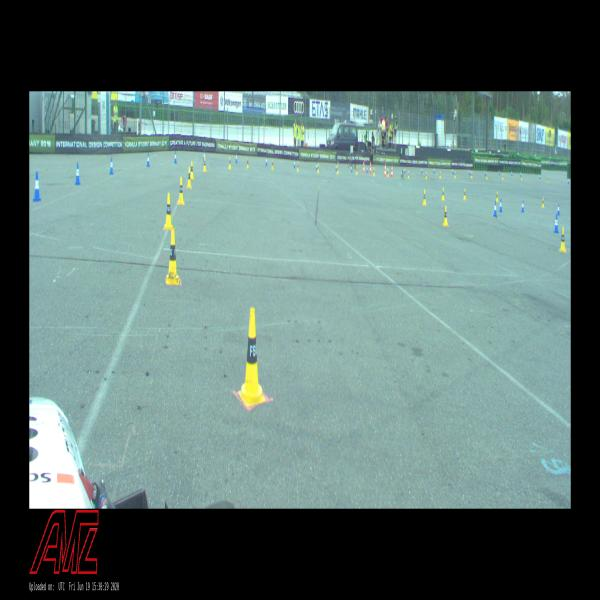blue_cone: (33, 172, 41, 202), (75, 163, 80, 185), (109, 157, 114, 174), (554, 215, 558, 232), (493, 202, 497, 216), (146, 153, 150, 166), (499, 199, 502, 212), (521, 200, 524, 212), (174, 151, 177, 163), (557, 204, 560, 215), (203, 151, 205, 161), (335, 164, 337, 172), (366, 165, 368, 173), (351, 165, 353, 172), (316, 163, 318, 170), (539, 174, 541, 180), (433, 167, 435, 173), (404, 167, 406, 173), (484, 170, 486, 176), (452, 168, 454, 174), (421, 168, 423, 173), (236, 153, 237, 162), (266, 157, 267, 165), (294, 160, 295, 168), (498, 170, 500, 174), (387, 166, 388, 173), (568, 178, 569, 184), (469, 170, 470, 174), (520, 172, 521, 176), (512, 171, 512, 175)
large_orange_cone: (384, 163, 386, 176), (391, 165, 393, 177), (370, 161, 372, 173), (362, 161, 364, 173)
yellow_cone: (239, 308, 265, 406), (166, 228, 179, 284), (164, 193, 173, 230), (178, 178, 184, 204), (560, 227, 566, 252), (187, 167, 192, 188), (444, 206, 448, 225), (191, 161, 194, 179), (203, 158, 207, 171), (423, 190, 426, 205), (463, 189, 466, 200), (246, 158, 249, 168), (229, 157, 231, 169), (442, 188, 444, 200), (496, 192, 498, 202), (542, 198, 544, 208), (297, 162, 299, 172), (272, 160, 274, 170), (318, 164, 320, 173), (373, 168, 375, 176), (425, 172, 427, 179), (387, 169, 389, 176), (454, 172, 456, 178), (439, 172, 441, 178), (486, 173, 488, 179), (547, 177, 549, 182), (356, 166, 357, 174), (337, 165, 338, 173), (408, 171, 409, 178), (471, 172, 472, 178), (502, 174, 503, 179), (521, 175, 522, 180)
